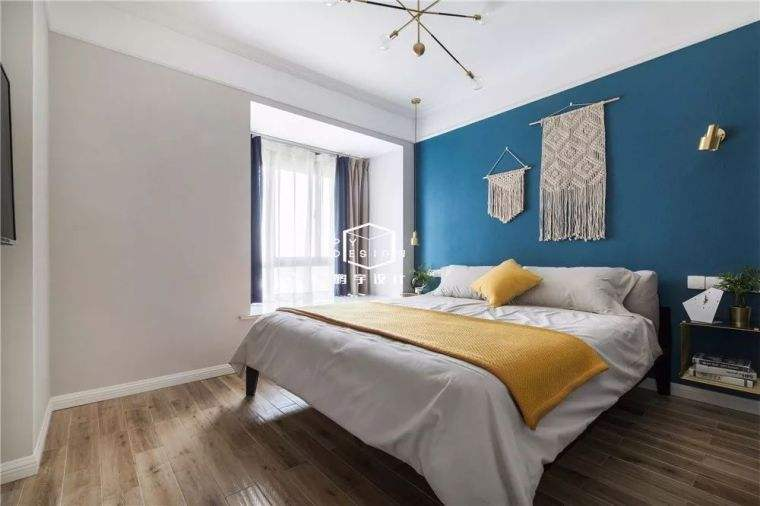床: (233, 292, 665, 483)
枕头: (419, 260, 650, 314)
灯: (324, 0, 486, 96), (407, 97, 427, 251), (695, 121, 729, 156)
